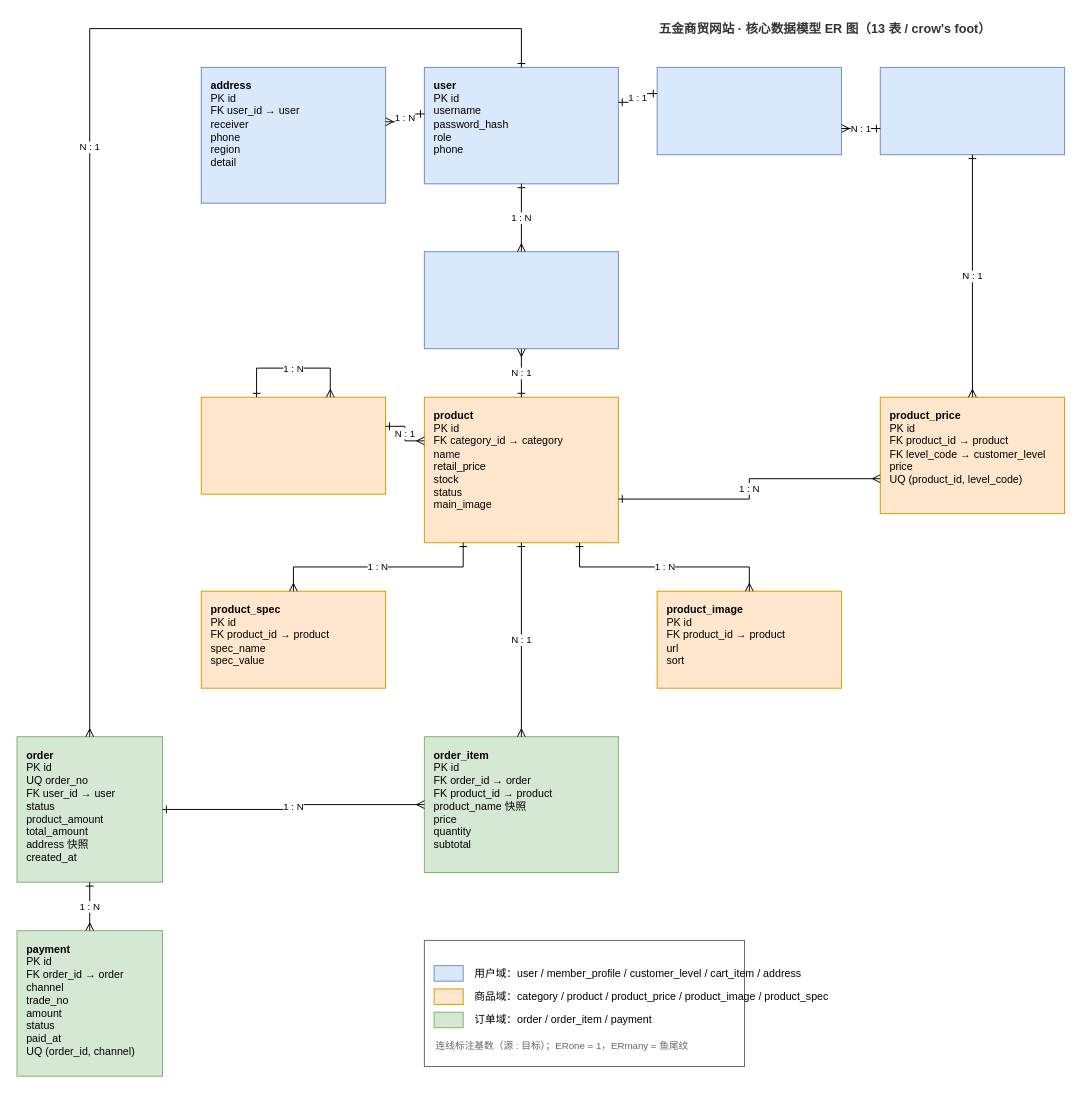
The diagram is 1082 pixels wide and 1093 high, and some of its shapes have lost their labels. Here are the shapes that lost their labels. From the top down, the box of each, then its label:
(656, 66, 841, 155): member_profile PK·FK user_id → user FK level_code → customer_level real_name
(879, 66, 1065, 155): customer_level PK code · 零售/批发/VIP name sort
(423, 251, 618, 349): cart_item PK id FK user_id → user FK product_id → product quantity
(200, 396, 386, 494): category PK id FK parent_id → category name sort
(423, 939, 744, 1067): 图例
